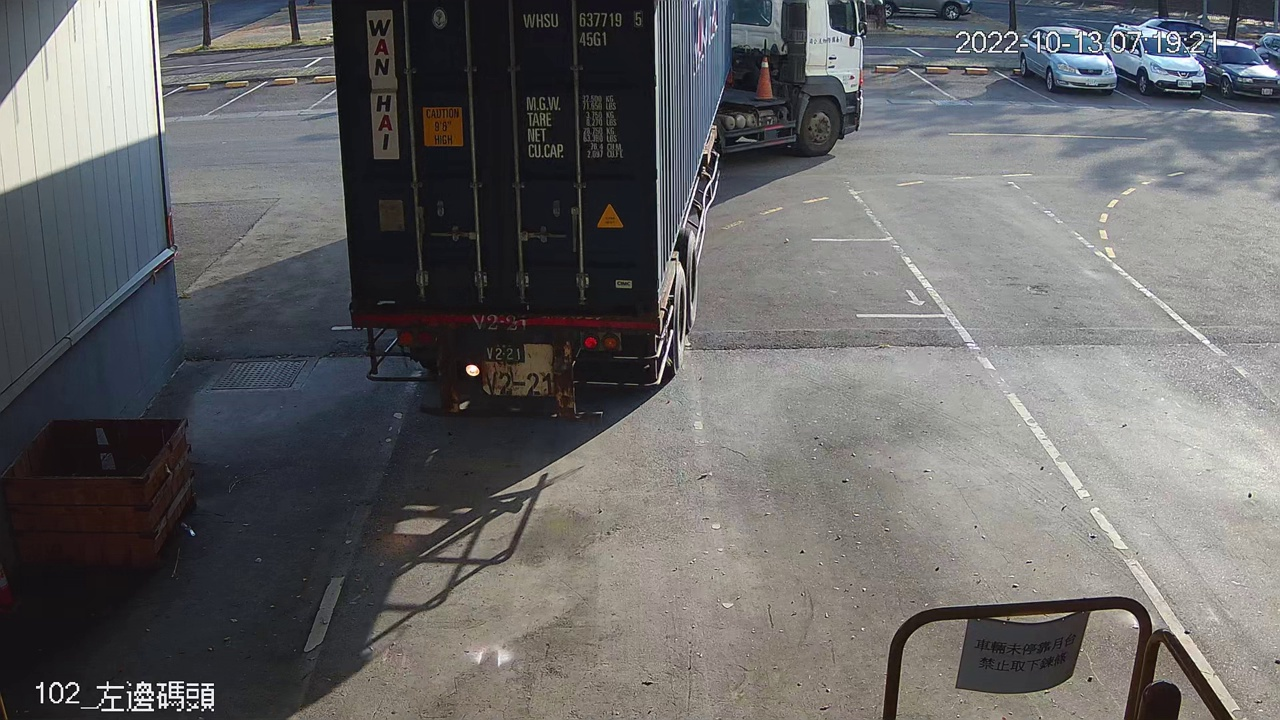container: (517, 4, 651, 53)
